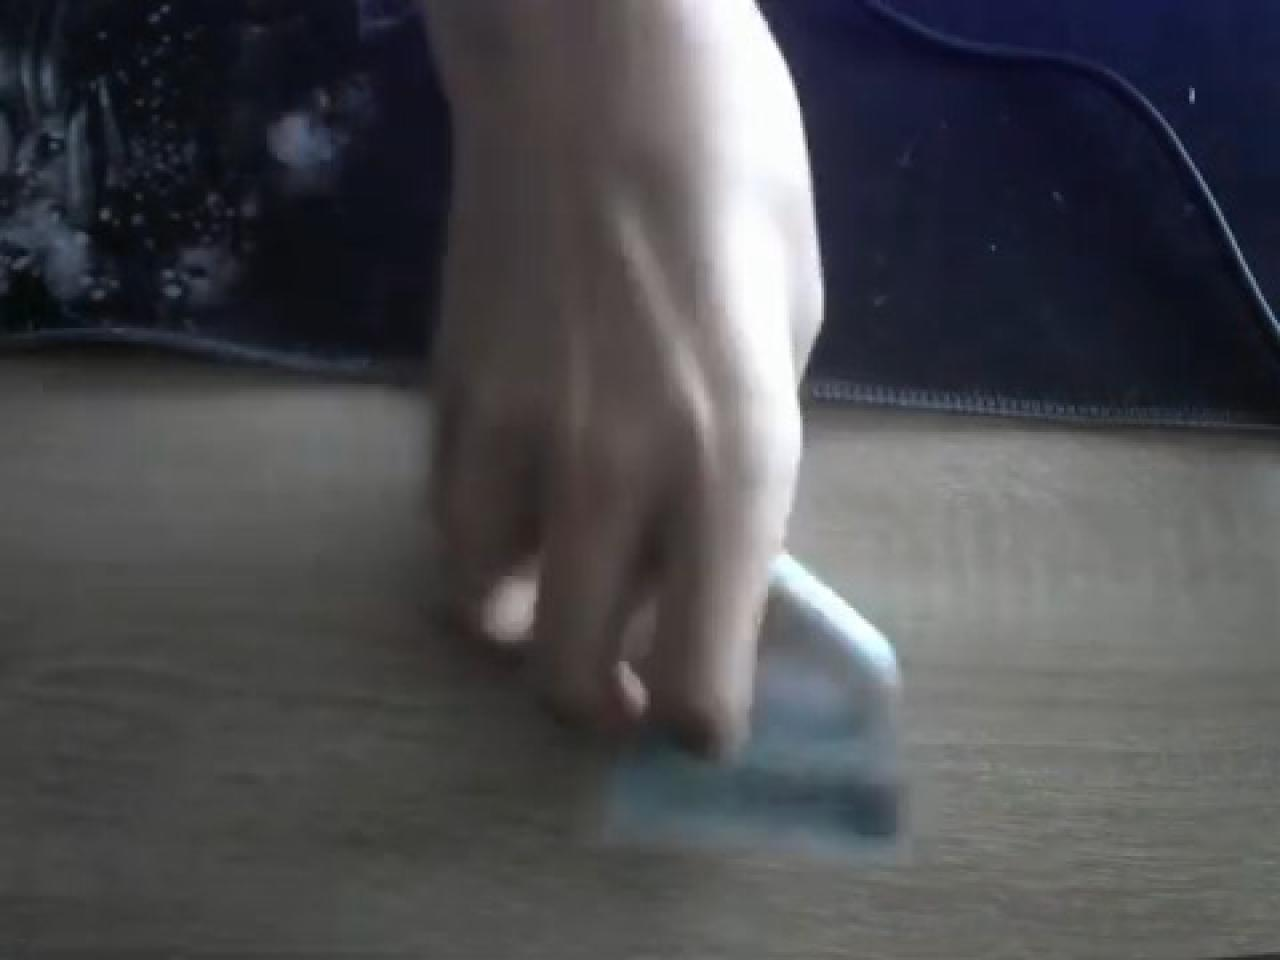20leva: (402, 0, 833, 765)
